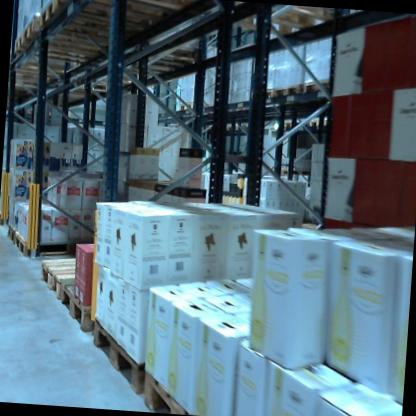pallet: (217, 1, 353, 47), (84, 304, 146, 403), (23, 9, 147, 58), (34, 0, 155, 48), (55, 0, 208, 34), (38, 239, 100, 312), (12, 30, 118, 72), (115, 37, 207, 74), (55, 277, 100, 341), (140, 370, 205, 414), (11, 230, 85, 266), (62, 74, 125, 99), (261, 76, 304, 105), (302, 76, 338, 102), (272, 165, 317, 184), (305, 111, 340, 132), (275, 115, 306, 132), (4, 223, 16, 242)
